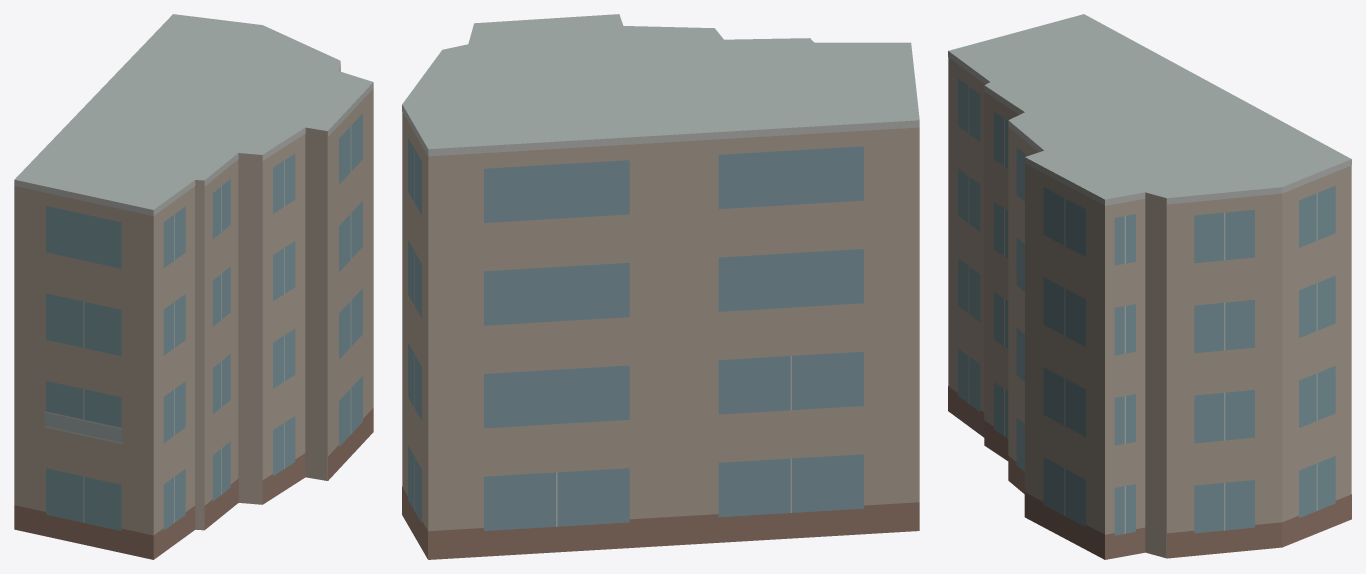
File: survey-upis-33018074.glb
The picture shows the model from 3 angles, left to right: view 1: azimuth 30°, elevation 25°; view 2: azimuth 150°, elevation 25°; view 3: azimuth 270°, elevation 25°; orthographic projection. The views are drawn at different scales.
Visible parts, largest first — view 1: survey-upis-33018074.tmp; view 2: survey-upis-33018074.tmp; view 3: survey-upis-33018074.tmp.
Part boxes in pixels (bbox=[...]): survey-upis-33018074.tmp: bbox=[14, 14, 373, 559]; survey-upis-33018074.tmp: bbox=[402, 14, 919, 559]; survey-upis-33018074.tmp: bbox=[948, 14, 1351, 559].
Bounding box in the file's own units: 15.43 × 13.95 × 14.17.
